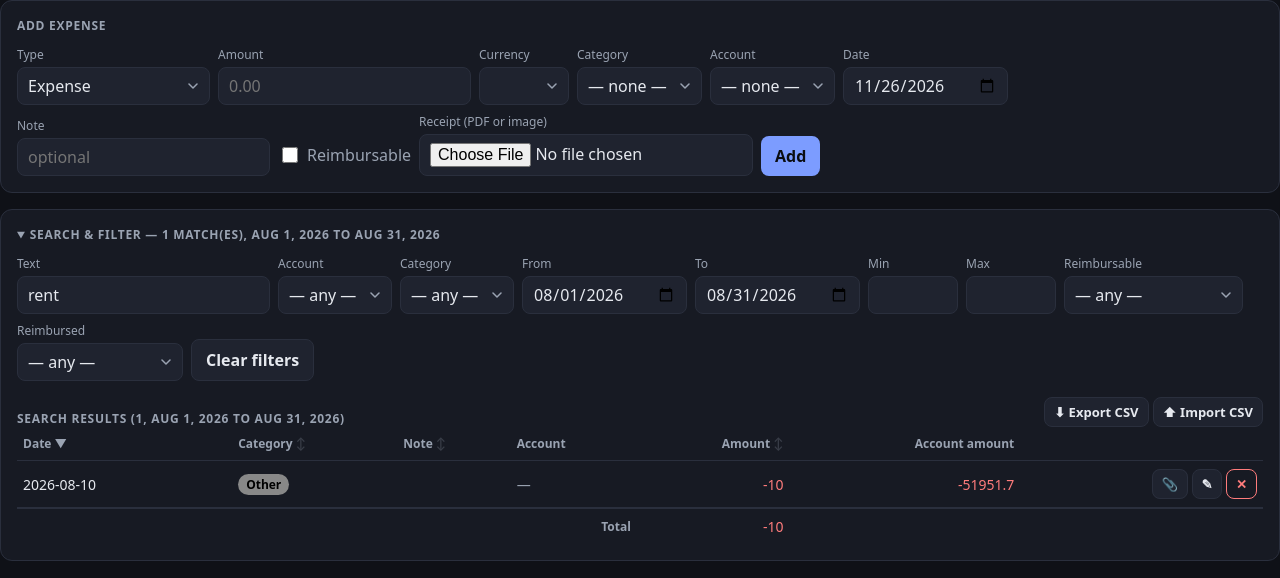
Test: shows recorded account amount 51951.7 as a placeholder without filling the correction
The image size is (1280, 578).
Click the button named "Edit transaction of 2026-08-10" at (1207, 484), box [1192,469,1222,499]
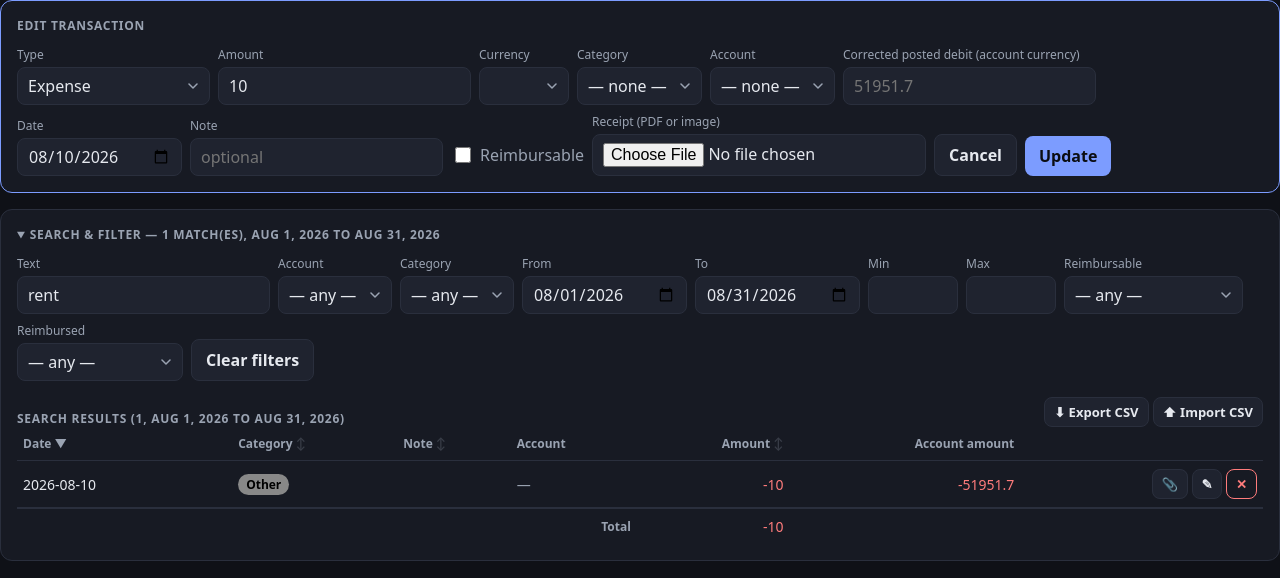
Now the number field labelled "Corrected posted debit (account currency)" is empty
Type "52030" into the number field labelled "Corrected posted debit (account currency)" at (970, 86), box [843,67,1096,105]
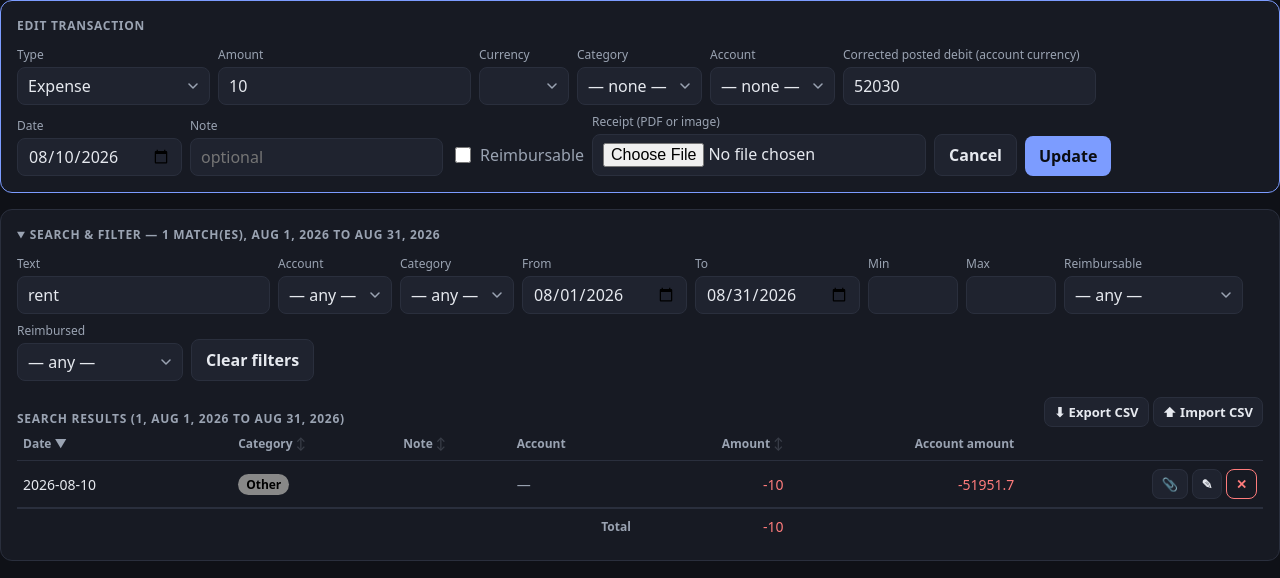
Click the button "Cancel" at (975, 155), box [934,134,1017,176]
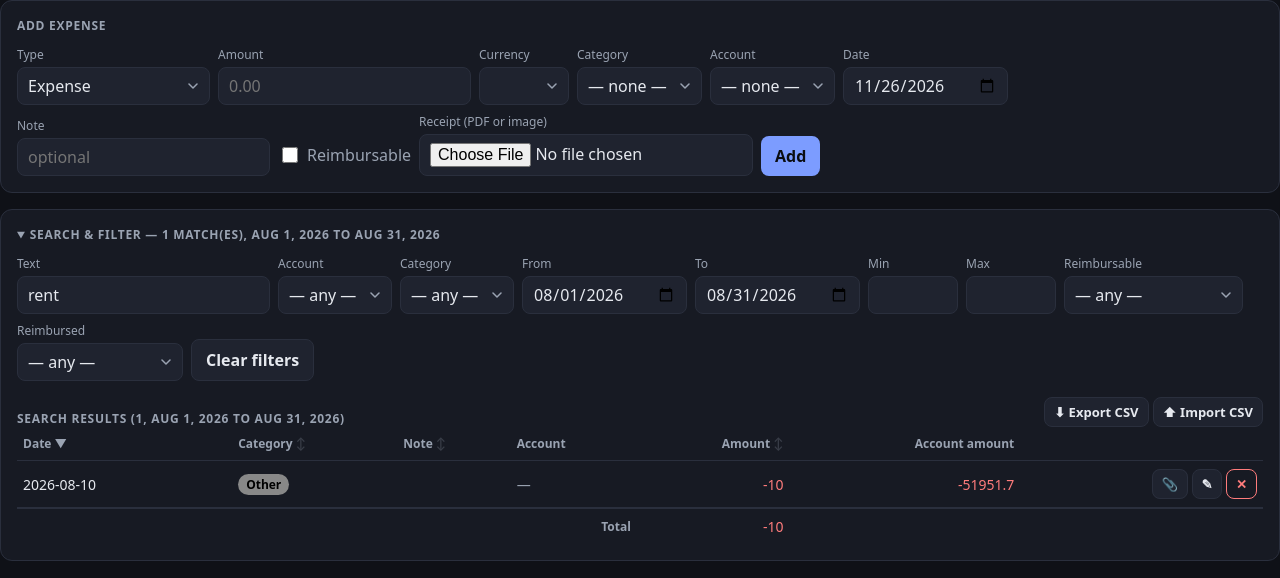
Click the button named "Edit transaction of 2026-08-10" at (1207, 484), box [1192,469,1222,499]
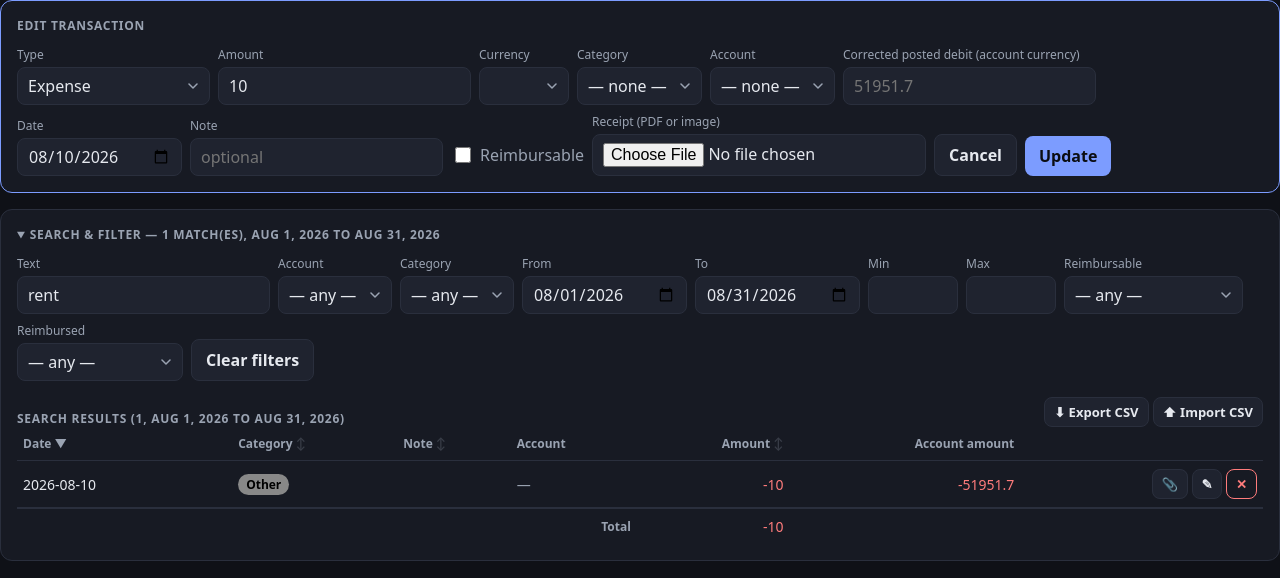
Now the number field labelled "Corrected posted debit (account currency)" is empty, box [843,67,1096,105]
